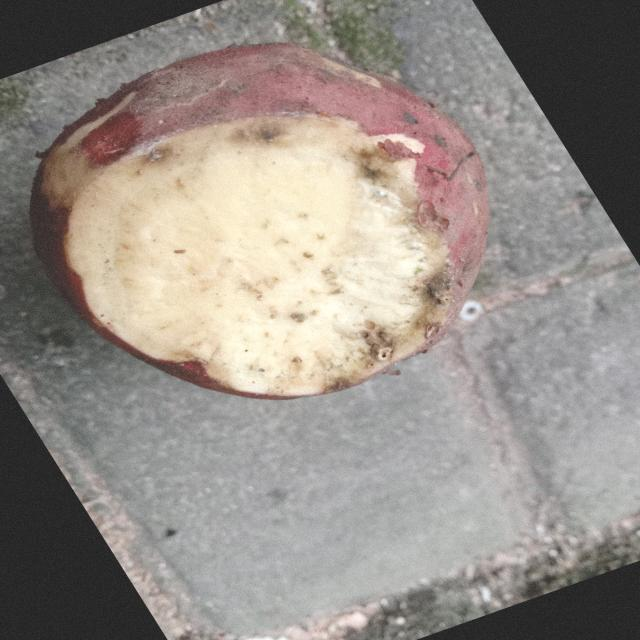Sick Sweet Potato_Tuber Rot: (67, 116, 447, 395)
